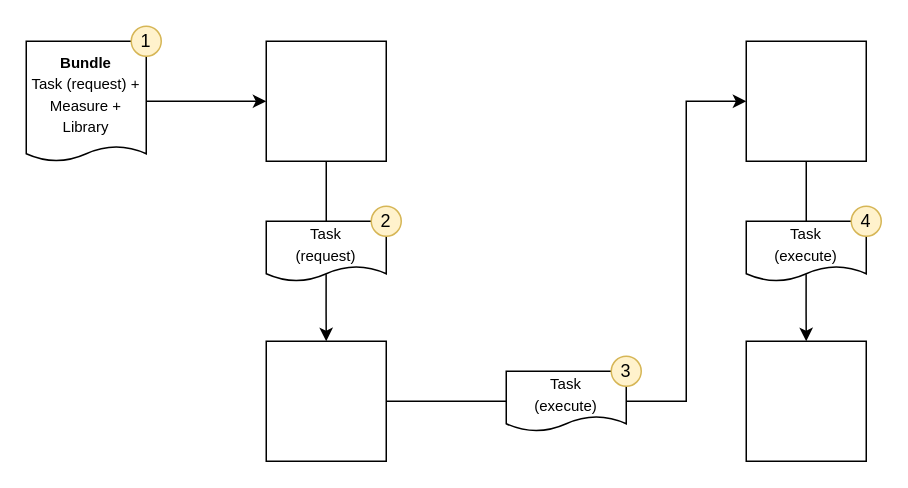
The diagram is 908 pixels wide and 488 high, and some of its shapes have lost their labels. The shapes that lost their labels are listed below. From the top down, each one's centre as x and y in pixels, then its label:
At point 325,100: "ZARS FHIR".
At point 805,100: "DIZ FHIR".
At point 325,400: "ZARS BPE".
At point 805,400: "DIZ BPE".
